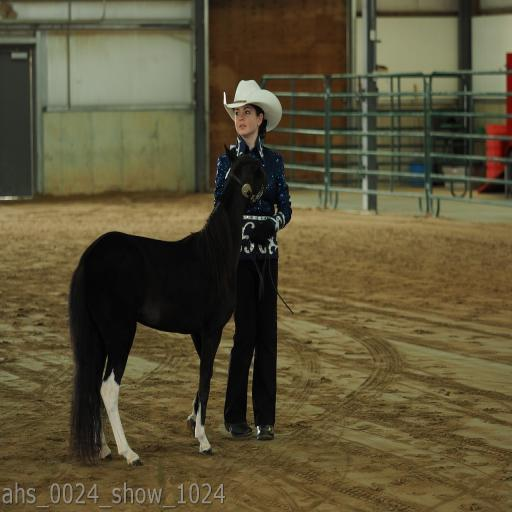horse: (68, 145, 268, 465)
